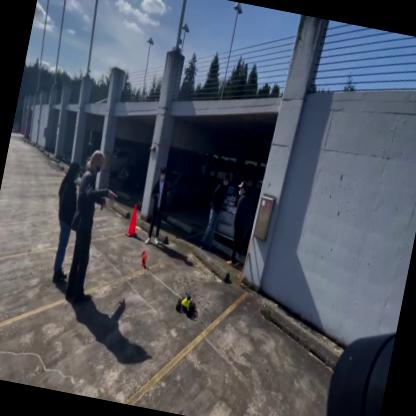cone: (124, 201, 141, 239)
mushr_car: (174, 286, 199, 320)
